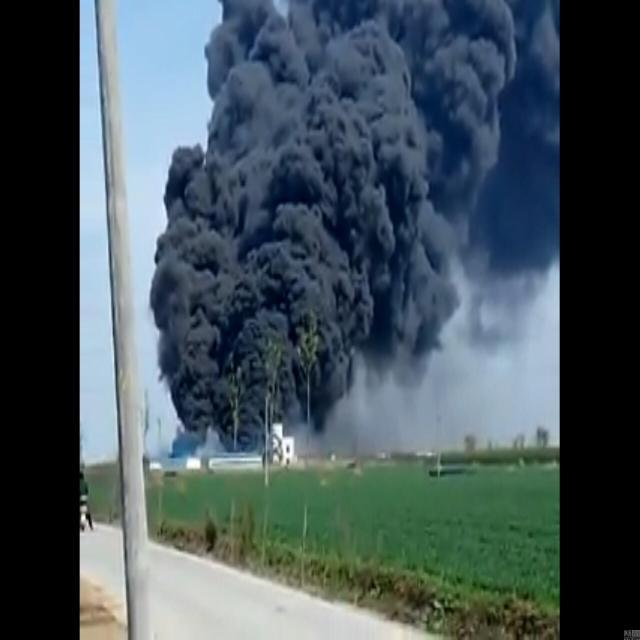Smoke: (149, 0, 561, 445)
